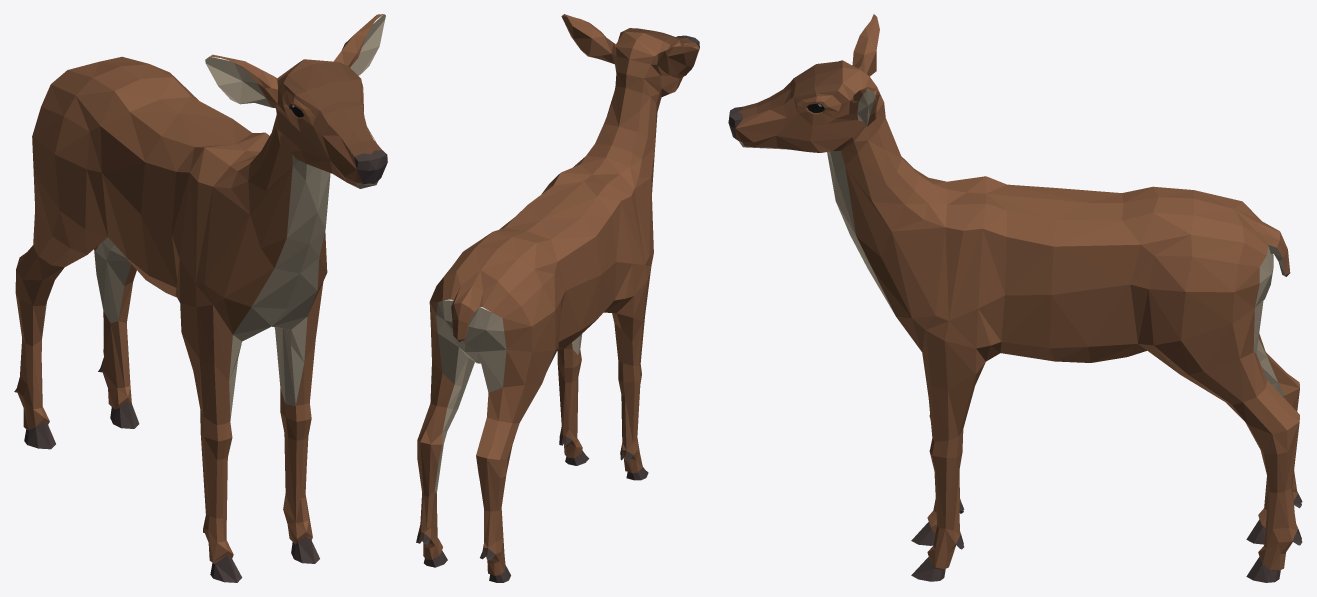
Rendered from deer.glb.
3 views of the same model, side by side, from view 1: azimuth 30°, elevation 25°; view 2: azimuth 150°, elevation 25°; view 3: azimuth 270°, elevation 25° (orthographic). The views are drawn at different scales.
Parts seen in each view (by area): view 1: Deer_baked; view 2: Deer_baked; view 3: Deer_baked.
Boxes of the visible parts, x1=… form: Deer_baked: x1=14, y1=14, x2=387, y2=582; Deer_baked: x1=416, y1=14, x2=699, y2=582; Deer_baked: x1=728, y1=14, x2=1302, y2=582.
Size of the model in its own units: 1.46 by 4.27 by 4.4.
Materials: 1 (1 with a texture image).
